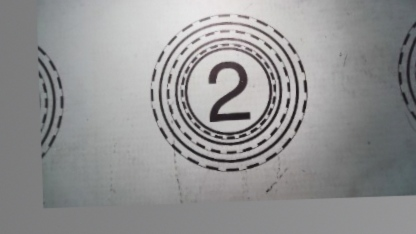2r: (143, 10, 312, 177)
